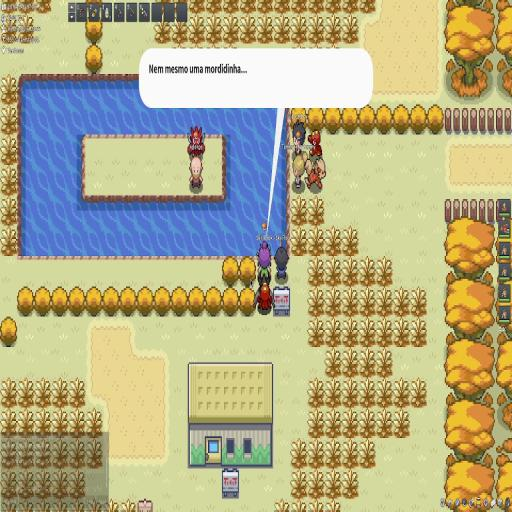NMUM: (145, 63, 248, 76)
